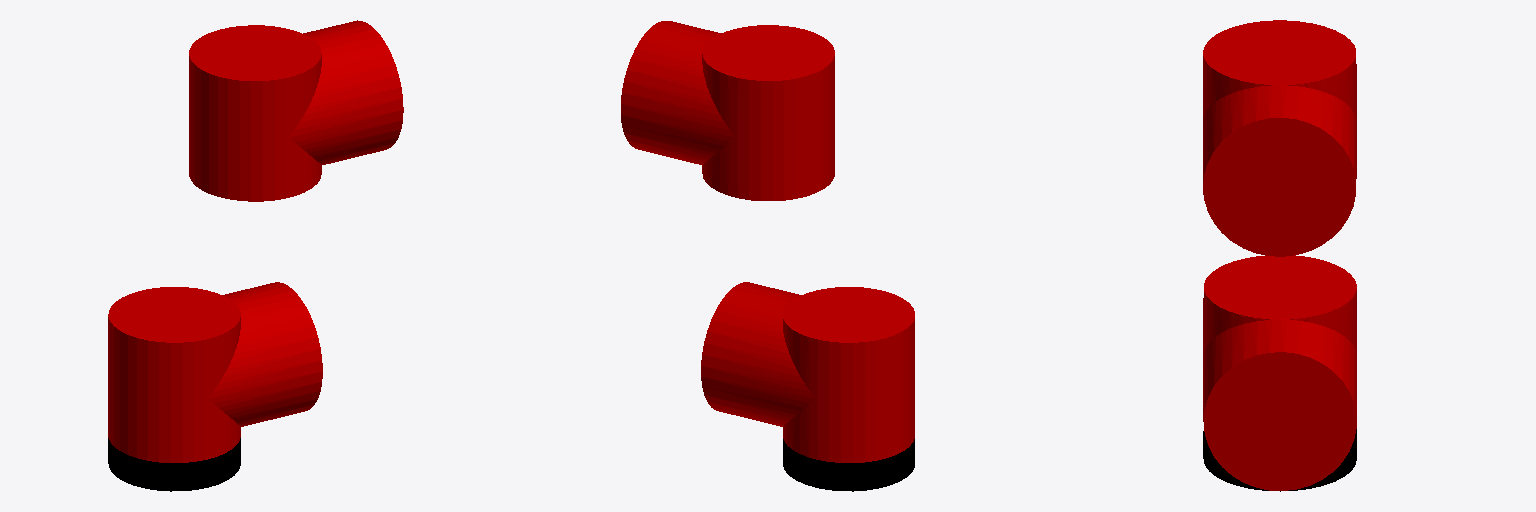
robot.urdf — node21:
<?xml version="1.0"?>
<robot  name="node21" >
 <material  name="blue" >
  <color  rgba="0 0 0.8 1.0" />
 </material>
 <material  name="red" >
  <color  rgba="0.8 0 0 1.0" />
 </material>
 <material  name="black" >
  <color  rgba="0.0 0.0 0.0 1.0" />
 </material>
 <link  name="root_mod" >
  <visual >
   <origin  rpy="0 0 0"  xyz="0 0 0" />
   <material  name="black" />
   <geometry >
    <cylinder  length="0.02"  radius="0.05" />
   </geometry>
  </visual>
 </link>
 <link  name="jointMod_1" >
  <inertial >
   <origin  rpy="1.5707963267948963 0.0 0.0"  xyz="0.0 7.771561172376096e-19 0.0035" />
   <mass  value="0.3" />
   <inertia  ixz="0.0"  izz="0.0005563635000000001"  iyy="0.00037090900000000005"  ixy="0.0"  iyz="0.0"  ixx="0.00037090900000000005" />
  </inertial>
  <visual >
   <origin  rpy="1.5707963267948963 0.0 0.0"  xyz="0.0 7.771561172376096e-19 0.0035" />
   <material  name="red" />
   <geometry >
    <mesh  filename="./meshes/j_module.obj"  scale="0.001 0.001 0.001" />
   </geometry>
  </visual>
 </link>
 <joint  name="joint_1_revolute"  type="revolute" >
  <parent  link="root_mod" />
  <child  link="jointMod_1" />
  <origin  rpy="0 0 0"  xyz="0.0 0.0 0.01" />
  <axis  xyz="0.0 0.0 1.0" />
 </joint>
 <transmission  name="act_joint_1_revolute" >
  <type  xmltext="SimpleTransmission" >
   SimpleTransmission
  </type>
  <actuator  name="trans_joint_1_revolute" >
   <mechanicalreduction  xmltext="1" >
    1
   </mechanicalreduction>
  </actuator>
  <joint  name="joint_1_revolute" />
 </transmission>
 <link  name="linkMod_2" >
  <inertial >
   <origin  rpy="1.5707963240855651 -1.2497703982816688e-08 -3.141592641092089"  xyz="0.03999999999999998 4.999081662324221e-10 -4.999081648780052e-10" />
   <mass  value="0.12" />
   <inertia  ixz="0.0"  iyy="0.0"  ixx="0.0005563635000000001"  ixy="0.0"  iyz="0.0"  izz="0.0005563635000000001" />
  </inertial>
  <visual >
   <origin  rpy="1.5707963240855651 -1.2497703982816688e-08 -3.141592641092089"  xyz="0.03999999999999998 4.999081662324221e-10 -4.999081648780052e-10" />
   <material  name="blue" />
   <geometry >
    <mesh  filename="./meshes/l2_module.obj"  scale="0.001 0.001 0.001" />
   </geometry>
  </visual>
 </link>
 <joint  name="joint_2_revolute"  type="revolute" >
  <parent  link="jointMod_1" />
  <child  link="linkMod_2" />
  <origin  rpy="0 0 0"  xyz="0.03 -0.0002999999999999882 0.053000000000000005" />
  <axis  xyz="1.0 0.0 0.0" />
 </joint>
 <transmission  name="act_joint_2_revolute" >
  <type  xmltext="SimpleTransmission" >
   SimpleTransmission
  </type>
  <actuator  name="trans_joint_2_revolute" >
   <mechanicalreduction  xmltext="1" >
    1
   </mechanicalreduction>
  </actuator>
  <joint  name="joint_2_revolute" />
 </transmission>
 <link  name="jointMod_3" >
  <inertial >
   <origin  rpy="1.5707963267948963 0.0 0.0"  xyz="0.0 7.771561172376096e-19 0.0035" />
   <mass  value="0.3" />
   <inertia  ixz="0.0"  izz="0.0005563635000000001"  iyy="0.00037090900000000005"  ixy="0.0"  iyz="0.0"  ixx="0.00037090900000000005" />
  </inertial>
  <visual >
   <origin  rpy="1.5707963267948963 0.0 0.0"  xyz="0.0 7.771561172376096e-19 0.0035" />
   <material  name="red" />
   <geometry >
    <mesh  filename="./meshes/j_module.obj"  scale="0.001 0.001 0.001" />
   </geometry>
  </visual>
 </link>
 <joint  name="joint_3_fixed"  type="fixed" >
  <parent  link="linkMod_2" />
  <child  link="jointMod_3" />
  <origin  rpy="0 0 0"  xyz="0.0400000018496602 9.892714319227296e-11 0.14799999950009177" />
  <axis  xyz="0.0 -0.0 1.0" />
 </joint>
 <link  name="linkMod_4" >
  <inertial >
   <origin  rpy="1.5707963240855651 -1.2497703982816688e-08 -3.141592641092089"  xyz="0.03999999999999998 4.999081662324221e-10 -4.999081648780052e-10" />
   <mass  value="0.12" />
   <inertia  ixz="0.0"  iyy="0.0"  ixx="0.0005563635000000001"  ixy="0.0"  iyz="0.0"  izz="0.0005563635000000001" />
  </inertial>
  <visual >
   <origin  rpy="1.5707963240855651 -1.2497703982816688e-08 -3.141592641092089"  xyz="0.03999999999999998 4.999081662324221e-10 -4.999081648780052e-10" />
   <material  name="blue" />
   <geometry >
    <mesh  filename="./meshes/l2_module.obj"  scale="0.001 0.001 0.001" />
   </geometry>
  </visual>
 </link>
 <joint  name="joint_4_revolute"  type="revolute" >
  <parent  link="jointMod_3" />
  <child  link="linkMod_4" />
  <origin  rpy="0 0 0"  xyz="0.03 -0.0002999999999999882 0.053000000000000005" />
  <axis  xyz="1.0 0.0 0.0" />
 </joint>
 <transmission  name="act_joint_4_revolute" >
  <type  xmltext="SimpleTransmission" >
   SimpleTransmission
  </type>
  <actuator  name="trans_joint_4_revolute" >
   <mechanicalreduction  xmltext="1" >
    1
   </mechanicalreduction>
  </actuator>
  <joint  name="joint_4_revolute" />
 </transmission>
 <link  name="eef" />
 <joint  name="eef_joint"  type="fixed" >
  <parent  link="linkMod_4" />
  <child  link="eef" />
  <origin  rpy="0 0 0"  xyz="0.0400000018496602 9.892714319227296e-11 0.14799999950009177" />
  <axis  xyz="0.0 -0.0 1.0" />
 </joint>
</robot>

--- What the picture shows (computed from the rendered views, not written in the file) ---
The picture shows the robot from 3 angles, left to right: view 1: azimuth 30°, elevation 25°; view 2: azimuth 150°, elevation 25°; view 3: azimuth 270°, elevation 25°; orthographic projection.
Robot: node21 — 6 links, 5 joints (3 revolute, 2 fixed); root link root_mod; default pose: all joints at 0.
Links seen in each view (by area): view 1: jointMod_1, jointMod_3, root_mod; view 2: jointMod_3, jointMod_1, root_mod; view 3: jointMod_3, jointMod_1, root_mod.
Link boxes in pixels (box(x1,y1,x2,y2)): jointMod_1: box(108, 282, 322, 462); jointMod_3: box(189, 20, 403, 201); root_mod: box(108, 438, 240, 491); jointMod_3: box(621, 21, 834, 200); jointMod_1: box(701, 282, 914, 462); root_mod: box(783, 439, 914, 491); jointMod_3: box(1203, 20, 1356, 256); jointMod_1: box(1203, 255, 1356, 490); root_mod: box(1203, 429, 1356, 491).
Bounding box of the posed robot: 0.22 × 0.1003 × 0.3245 m (x, y, z).
Meshes: 2 distinct files referenced, 2 mesh visuals loaded (1 OBJ); not drawn: 2 (reference not matched to a file when rendering).